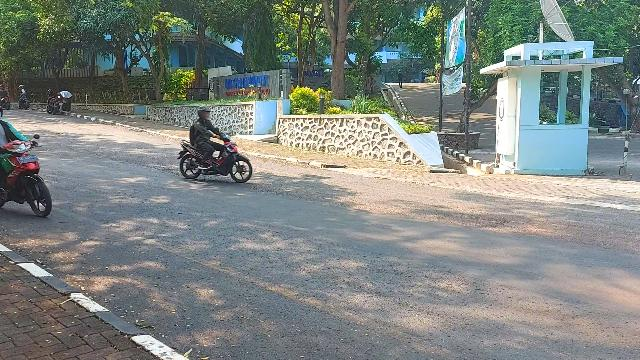helm: (199, 107, 212, 120)
motor: (177, 129, 253, 183)
